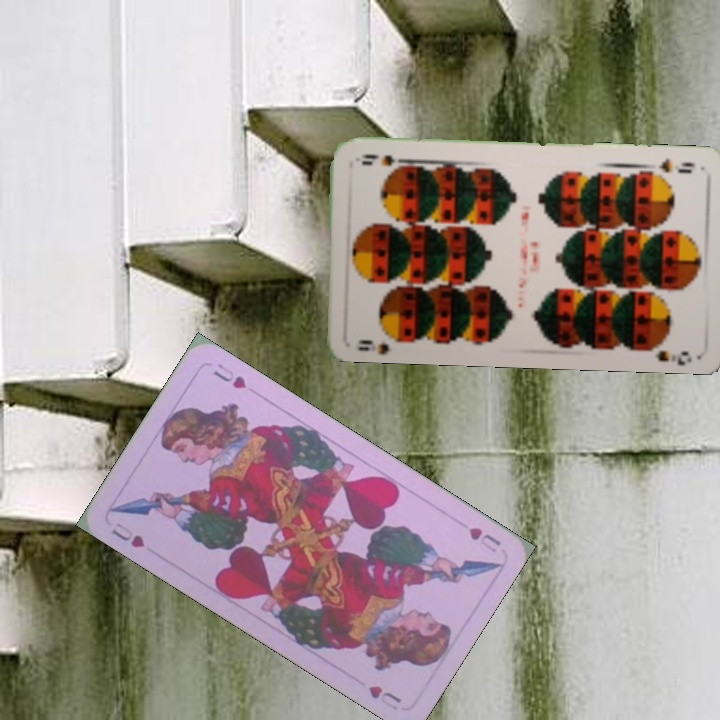HU: (107, 518, 148, 551), (465, 523, 503, 556)
S9: (643, 154, 698, 176), (355, 327, 405, 347)
